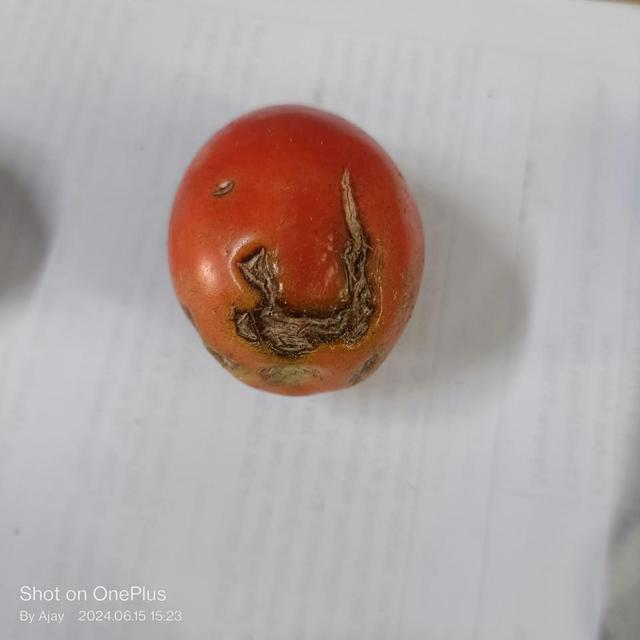Cracking Fruit: (69, 114, 273, 349)
